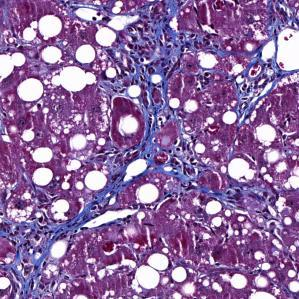fibrosis: (139, 137, 270, 213), (0, 204, 97, 297), (104, 24, 189, 95)
